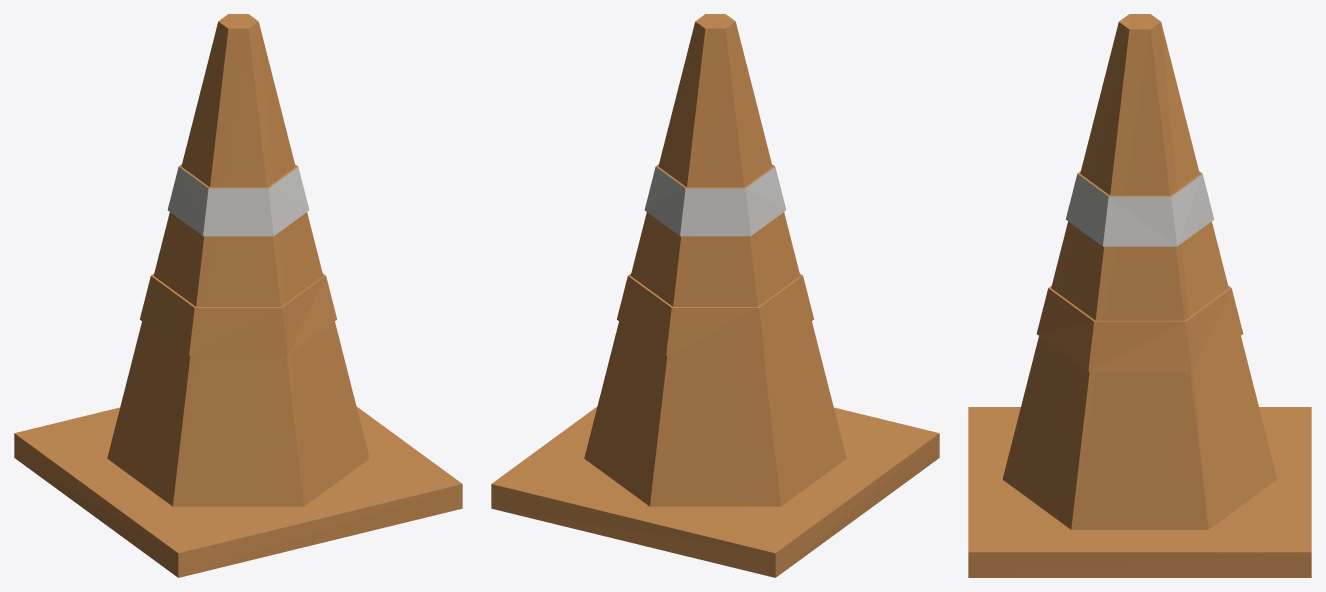
Rendered from traffic-cone-00.glb.
3 views of the same model, side by side, from view 1: azimuth 30°, elevation 25°; view 2: azimuth 150°, elevation 25°; view 3: azimuth 270°, elevation 25° (orthographic). The views are drawn at different scales.
Parts seen in each view (by area): view 1: traffic_cone_00; view 2: traffic_cone_00; view 3: traffic_cone_00.
Boxes of the visible parts, bbox=[...] form: traffic_cone_00: bbox=[14, 14, 462, 577]; traffic_cone_00: bbox=[491, 14, 939, 577]; traffic_cone_00: bbox=[968, 14, 1311, 577].
Bounding box in the file's own units: 0.4727 × 0.734 × 0.4727.
